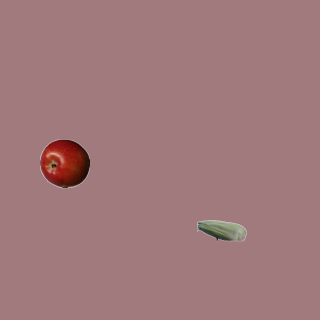Apple Braeburn: (39, 138, 89, 188)
Corn Husk: (196, 205, 246, 255)
